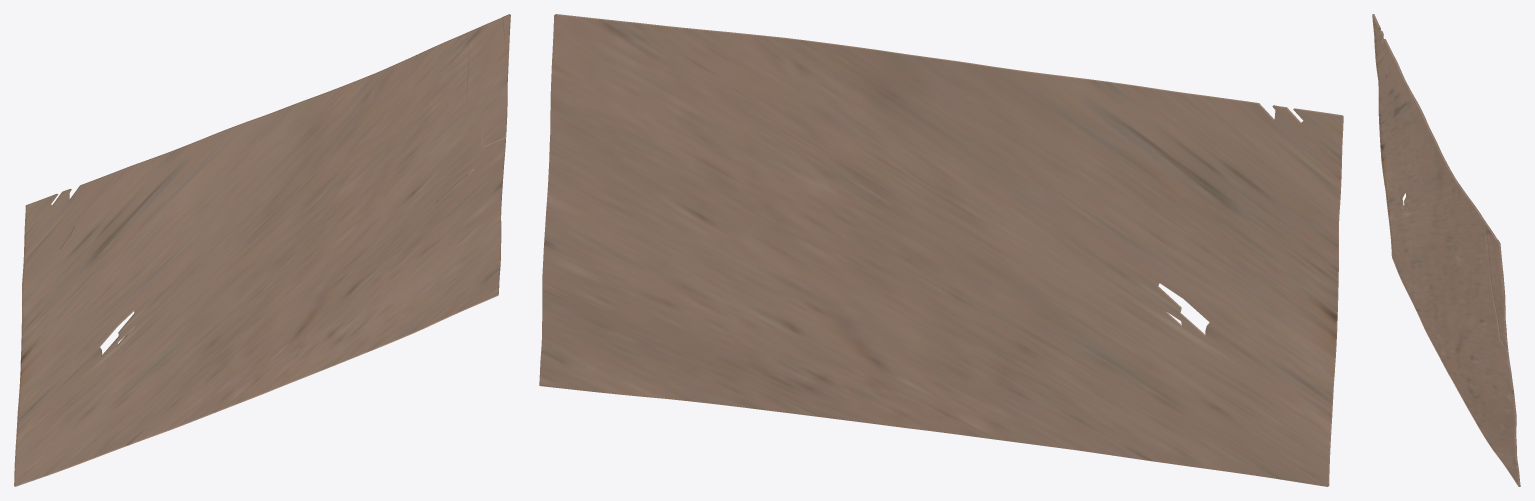
3 views of the same model, side by side, from view 1: azimuth 30°, elevation 25°; view 2: azimuth 150°, elevation 25°; view 3: azimuth 270°, elevation 25° (orthographic). The views are drawn at different scales.
Size of the model in its own units: 26.62 by 13.17 by 7.28.
Materials: 1 (1 with a texture image).
